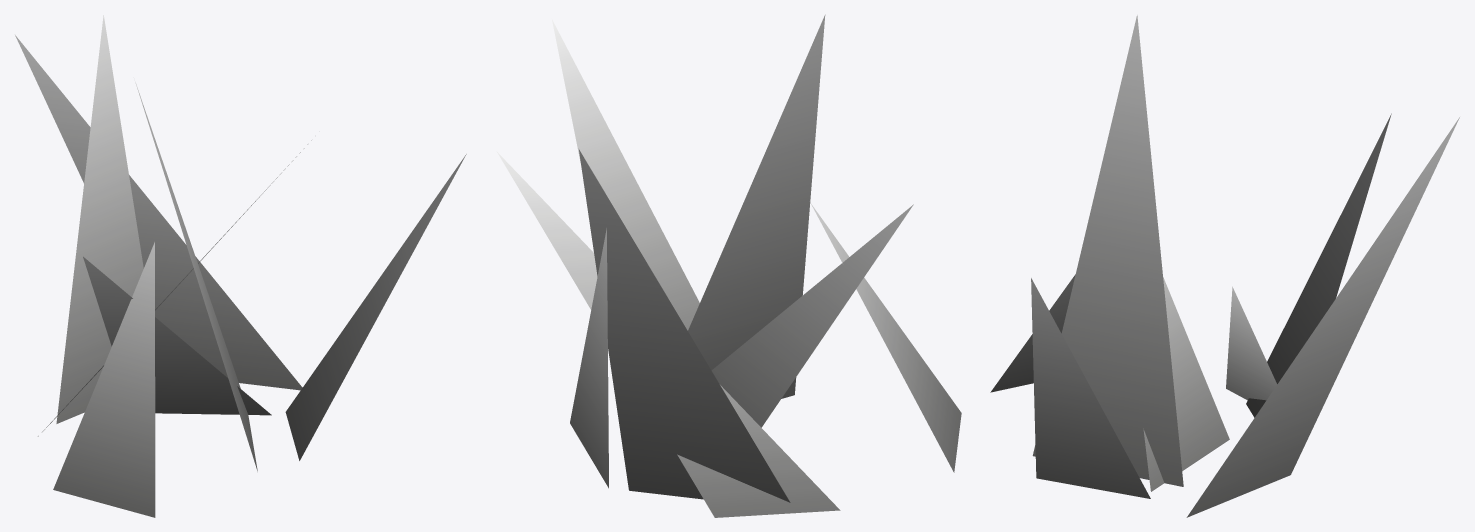
The model's file is grass_b.glb.
3 renders of one model, left to right at view 1: azimuth 30°, elevation 25°; view 2: azimuth 150°, elevation 25°; view 3: azimuth 270°, elevation 25°, orthographic. The views are drawn at different scales.
Visible parts, largest first — view 1: grass_b; view 2: grass_b; view 3: grass_b.
Boxes of the visible parts, x1,y1,x2,y2 form: grass_b: (15, 15, 466, 517); grass_b: (496, 14, 961, 517); grass_b: (990, 15, 1459, 517).
Size of the model in its own units: 0.3169 by 0.3039 by 0.3215.
Materials: 1 (1 with a texture image).
